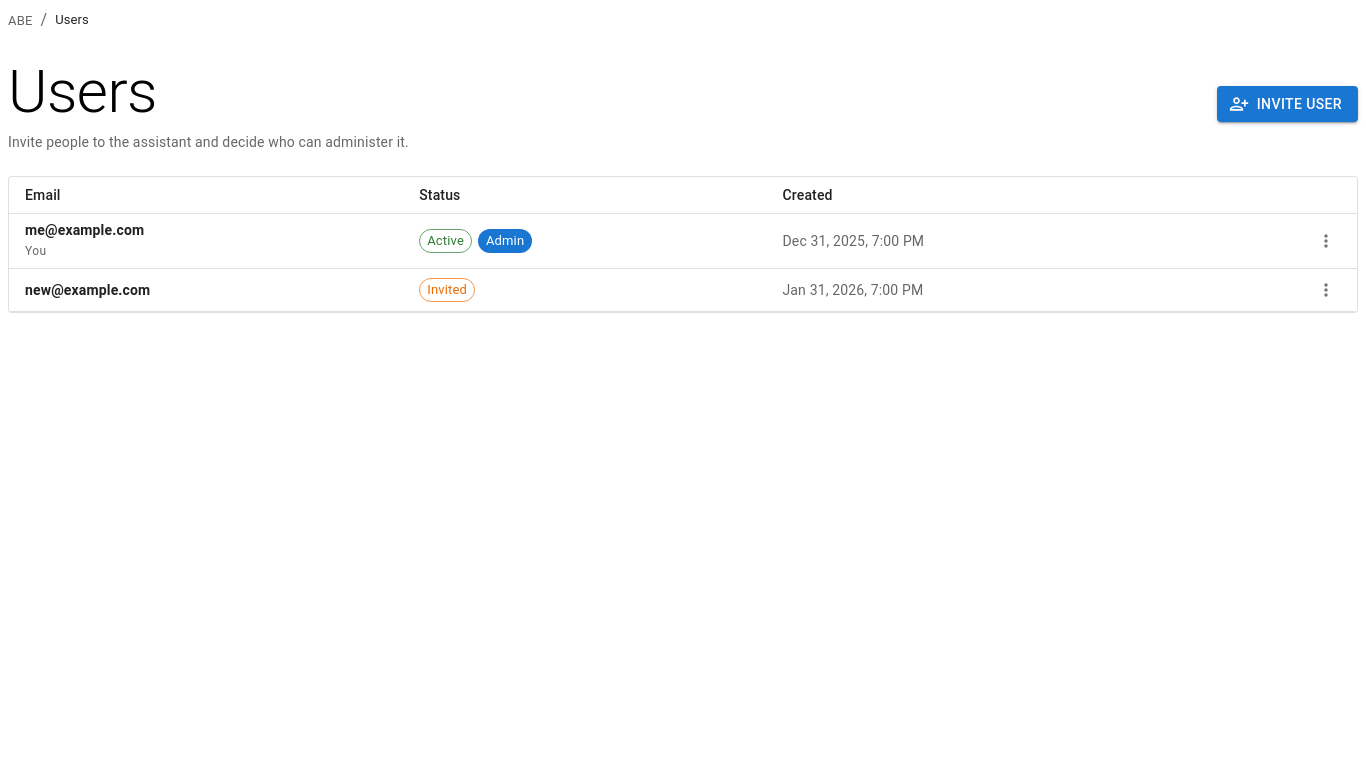
Test: UsersPage › deletes only after confirmation
This screenshot has width=1366, height=768.
What coordinates should you click on to do the following:
click the button named "Actions for new@example.com"
I would click on:
 (1326, 290)
Its box is 1311,275 -> 1341,305.
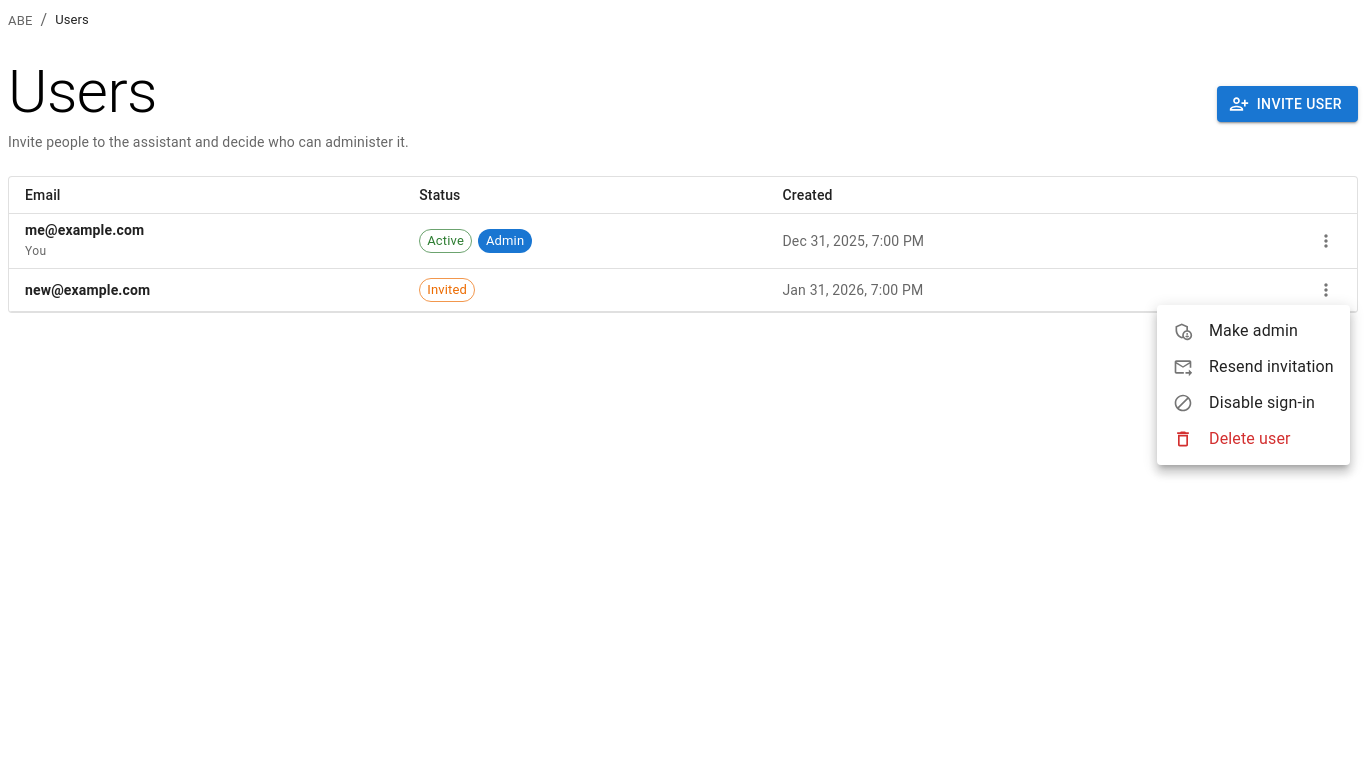
What coordinates should you click on to do the following:
click the menu item "Delete user"
I would click on:
 (1232, 439)
Its box is 1173,429 -> 1291,449.
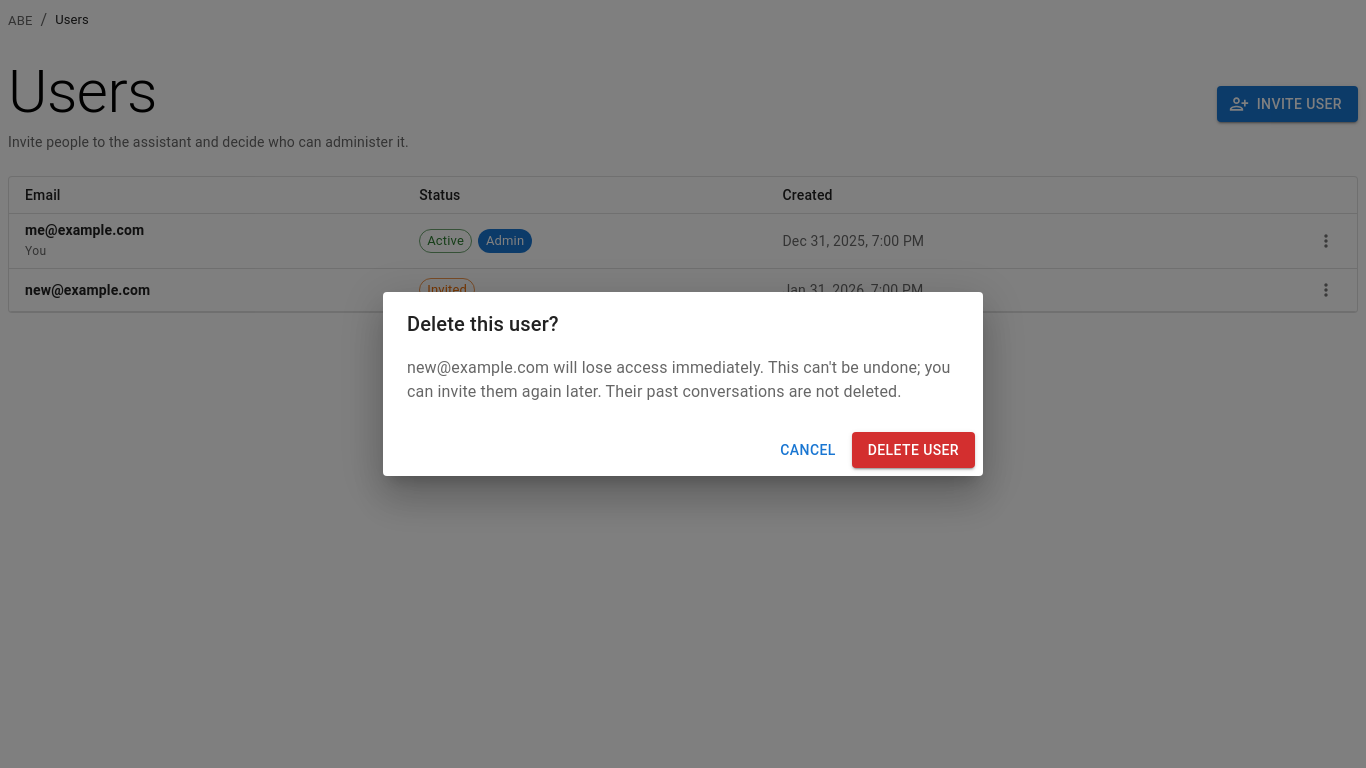
What coordinates should you click on to do the following:
click the button "Delete user"
I would click on:
 (913, 450)
Its box is 852,432 -> 975,468.
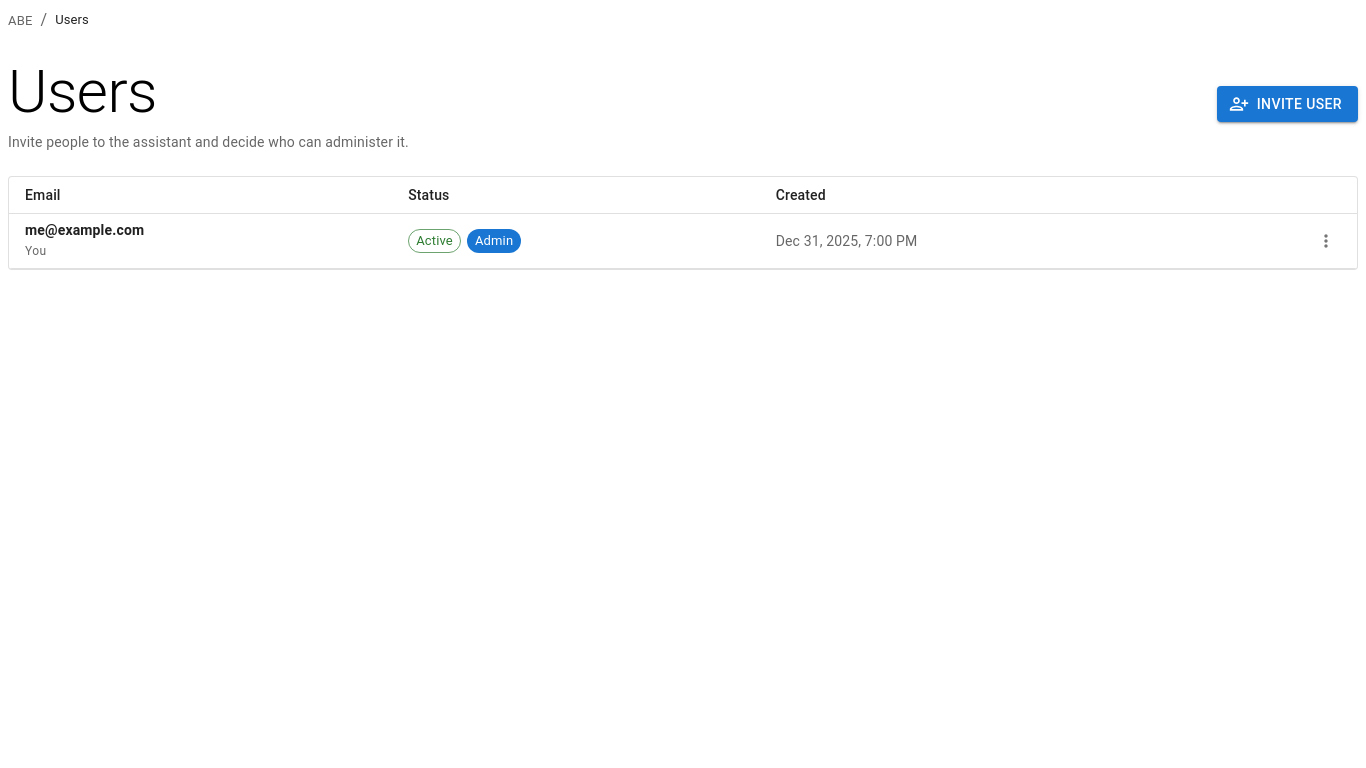
expect the text "new@example.com" is gone: met
